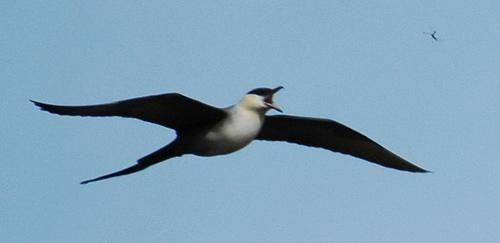bird: (26, 80, 427, 184)
